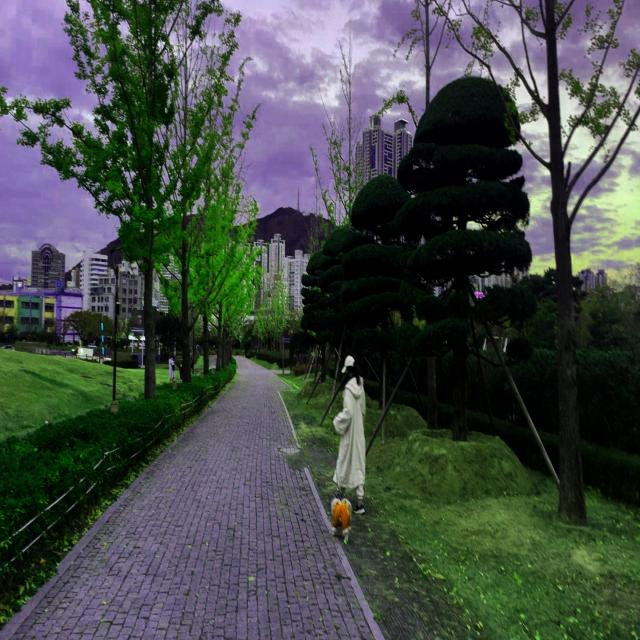Leashed_Dog: (329, 411, 354, 547)
